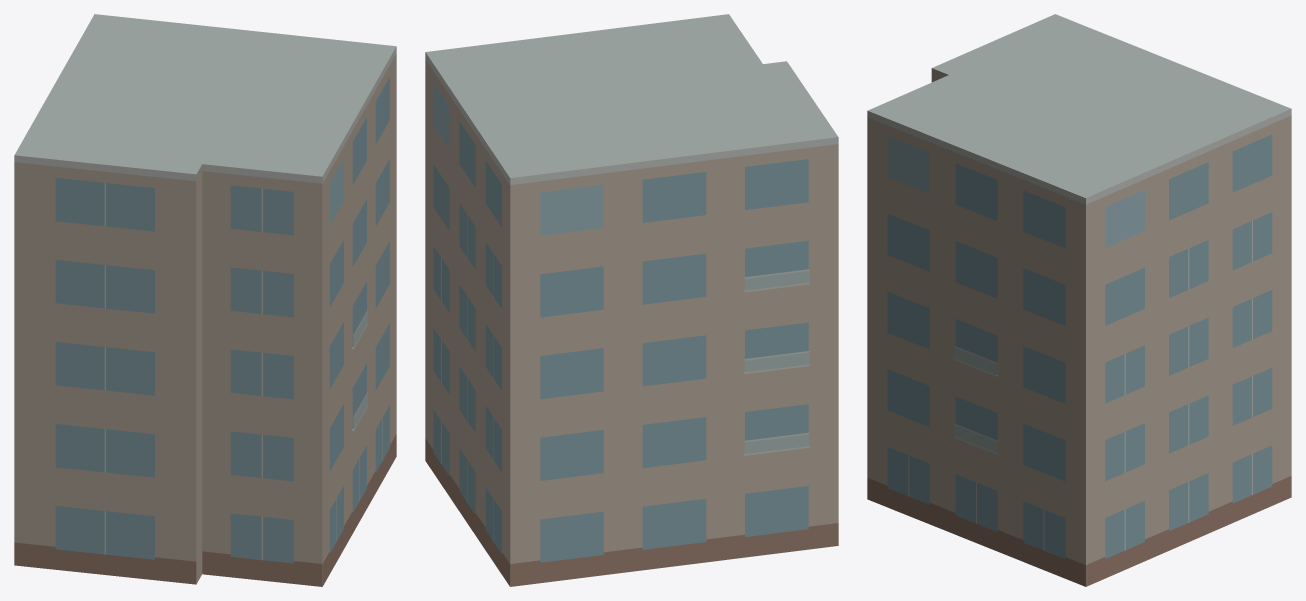
The model's file is survey-upis-32649392.glb.
3 views of the same model, side by side, from view 1: azimuth 30°, elevation 25°; view 2: azimuth 150°, elevation 25°; view 3: azimuth 270°, elevation 25° (orthographic). The views are drawn at different scales.
Parts seen in each view (by area): view 1: survey-upis-32649392.tmp; view 2: survey-upis-32649392.tmp; view 3: survey-upis-32649392.tmp.
Part boxes in pixels (x1,y1,x2,y2): survey-upis-32649392.tmp: [14, 14, 396, 586]; survey-upis-32649392.tmp: [425, 14, 838, 586]; survey-upis-32649392.tmp: [867, 14, 1291, 586].
Size of the model in its own units: 14.65 by 14.4 by 14.25.
